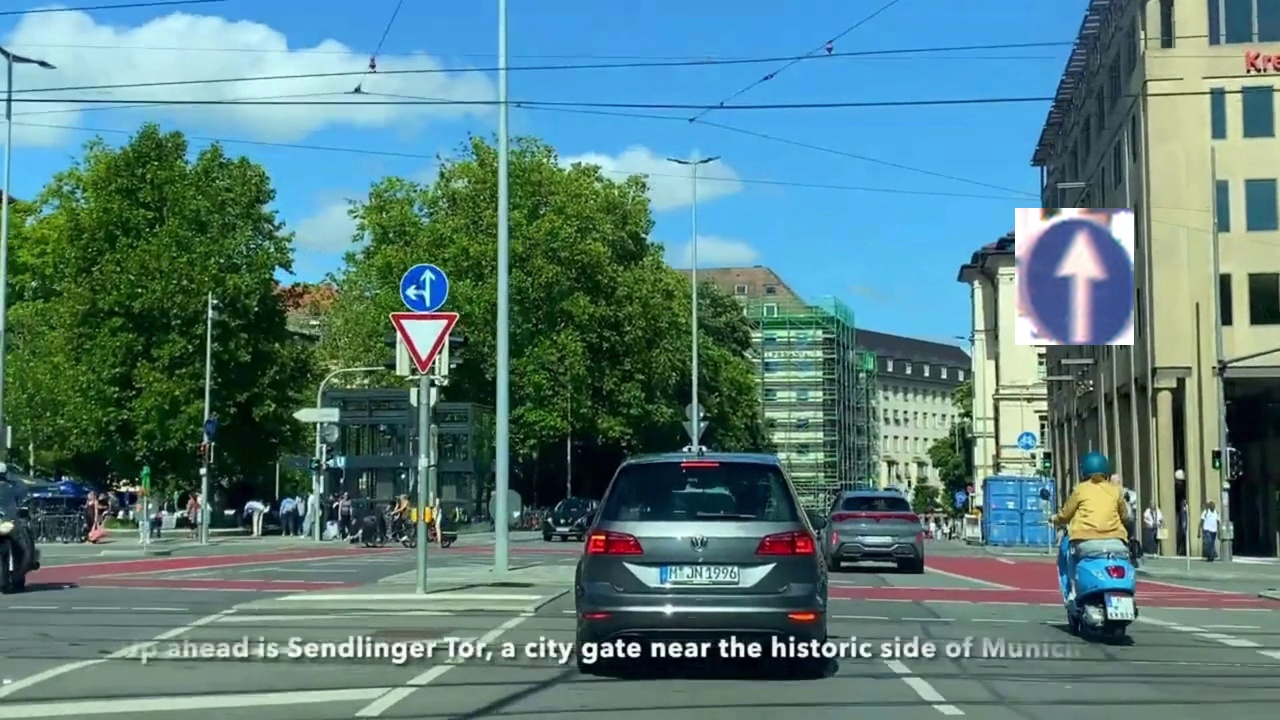Ahead only: (1015, 208, 1134, 345)
